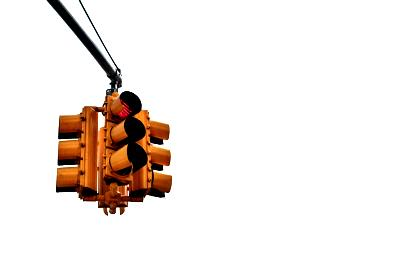International Road Signal Light: (56, 104, 99, 203), (106, 105, 152, 196), (140, 112, 172, 200)
